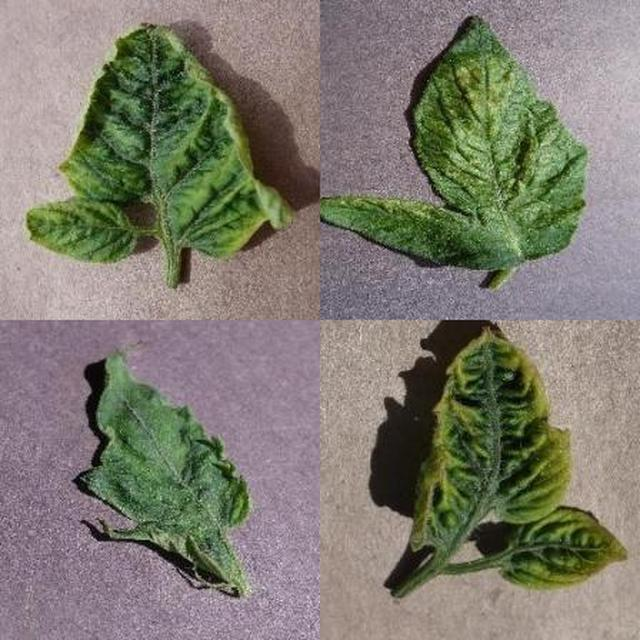Yellow Leaf Curl Virus: (190, 118, 640, 640)
